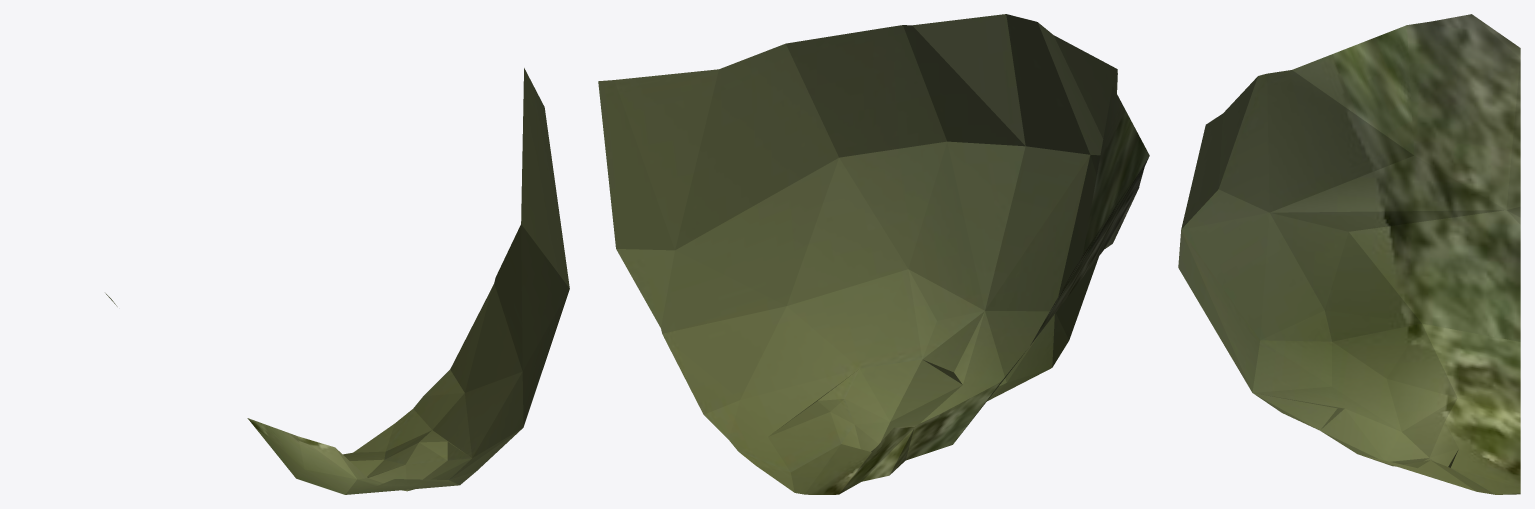
3 renders of one model, left to right at view 1: azimuth 30°, elevation 25°; view 2: azimuth 150°, elevation 25°; view 3: azimuth 270°, elevation 25°, orthographic. The views are drawn at different scales.
Bounding box in the file's own units: 2.57 × 1.74 × 1.6.
Materials: 2 (2 with a texture image).
